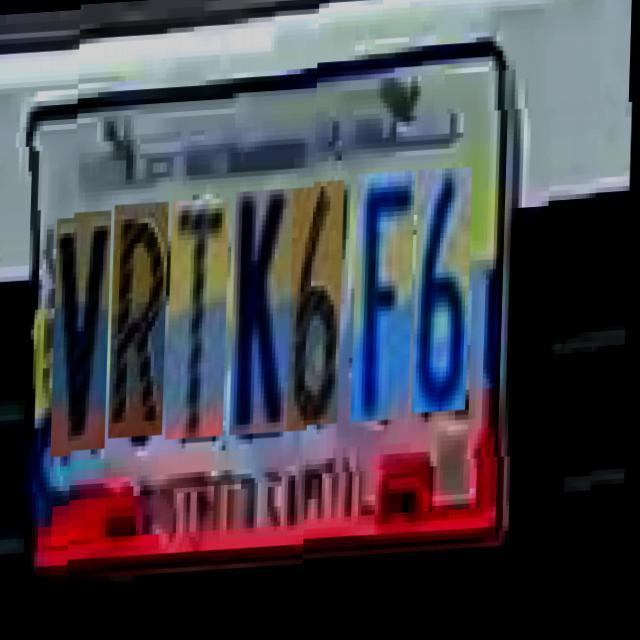6: (414, 173, 474, 420), (290, 185, 346, 431)
F: (354, 176, 416, 428)
K: (232, 188, 295, 434)
R: (111, 199, 170, 435)
T: (168, 196, 231, 437)
V: (54, 207, 114, 448)
